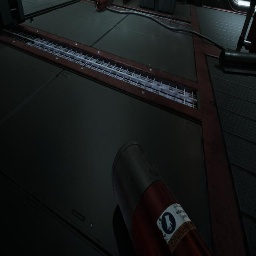0: (253, 7, 256, 16)
NitrogenTank ,: (111, 141, 215, 256), (94, 0, 114, 11)
